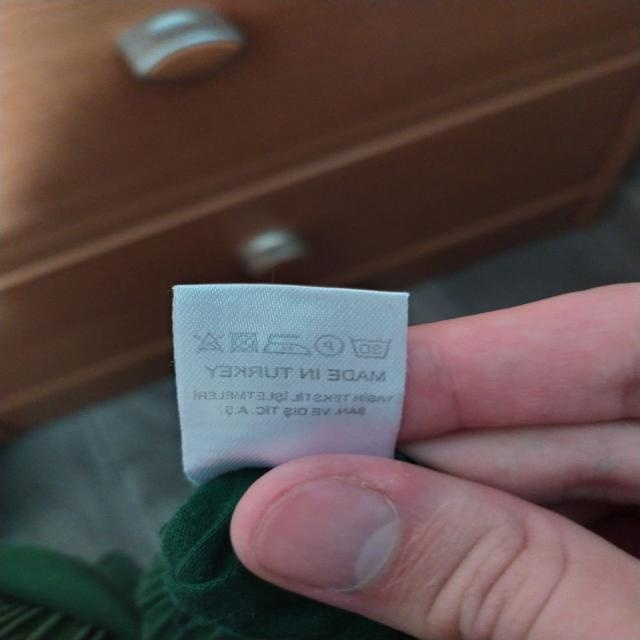30C: (348, 335, 394, 363)
DN_bleach: (190, 330, 226, 356)
DN_tumble_dry: (229, 329, 260, 355)
dry_clean_any_solvent_except_trichloroethylene: (313, 333, 343, 360)
iron_medium: (262, 330, 311, 360)
